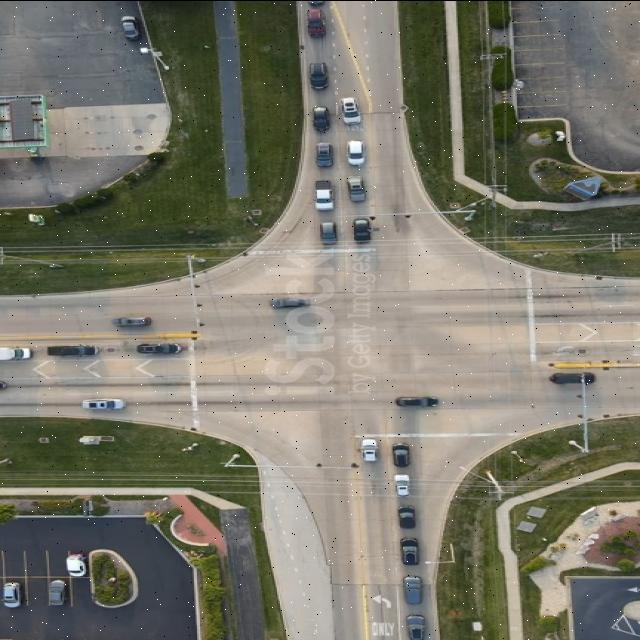car: (48, 344, 100, 356), (404, 575, 424, 603), (310, 62, 330, 90), (306, 8, 326, 36), (552, 373, 596, 385), (407, 615, 428, 640), (342, 96, 362, 122), (66, 552, 88, 574), (2, 582, 22, 606), (353, 218, 373, 242), (271, 294, 310, 306), (122, 16, 142, 39), (0, 346, 32, 360), (84, 398, 128, 408), (138, 342, 182, 352), (348, 139, 366, 163), (316, 141, 334, 165), (313, 105, 331, 129), (398, 395, 440, 405), (349, 176, 367, 199), (361, 439, 379, 462), (393, 444, 411, 466), (320, 220, 338, 242), (115, 316, 152, 326), (398, 474, 413, 496)
pickup-truck: (49, 576, 70, 604)
